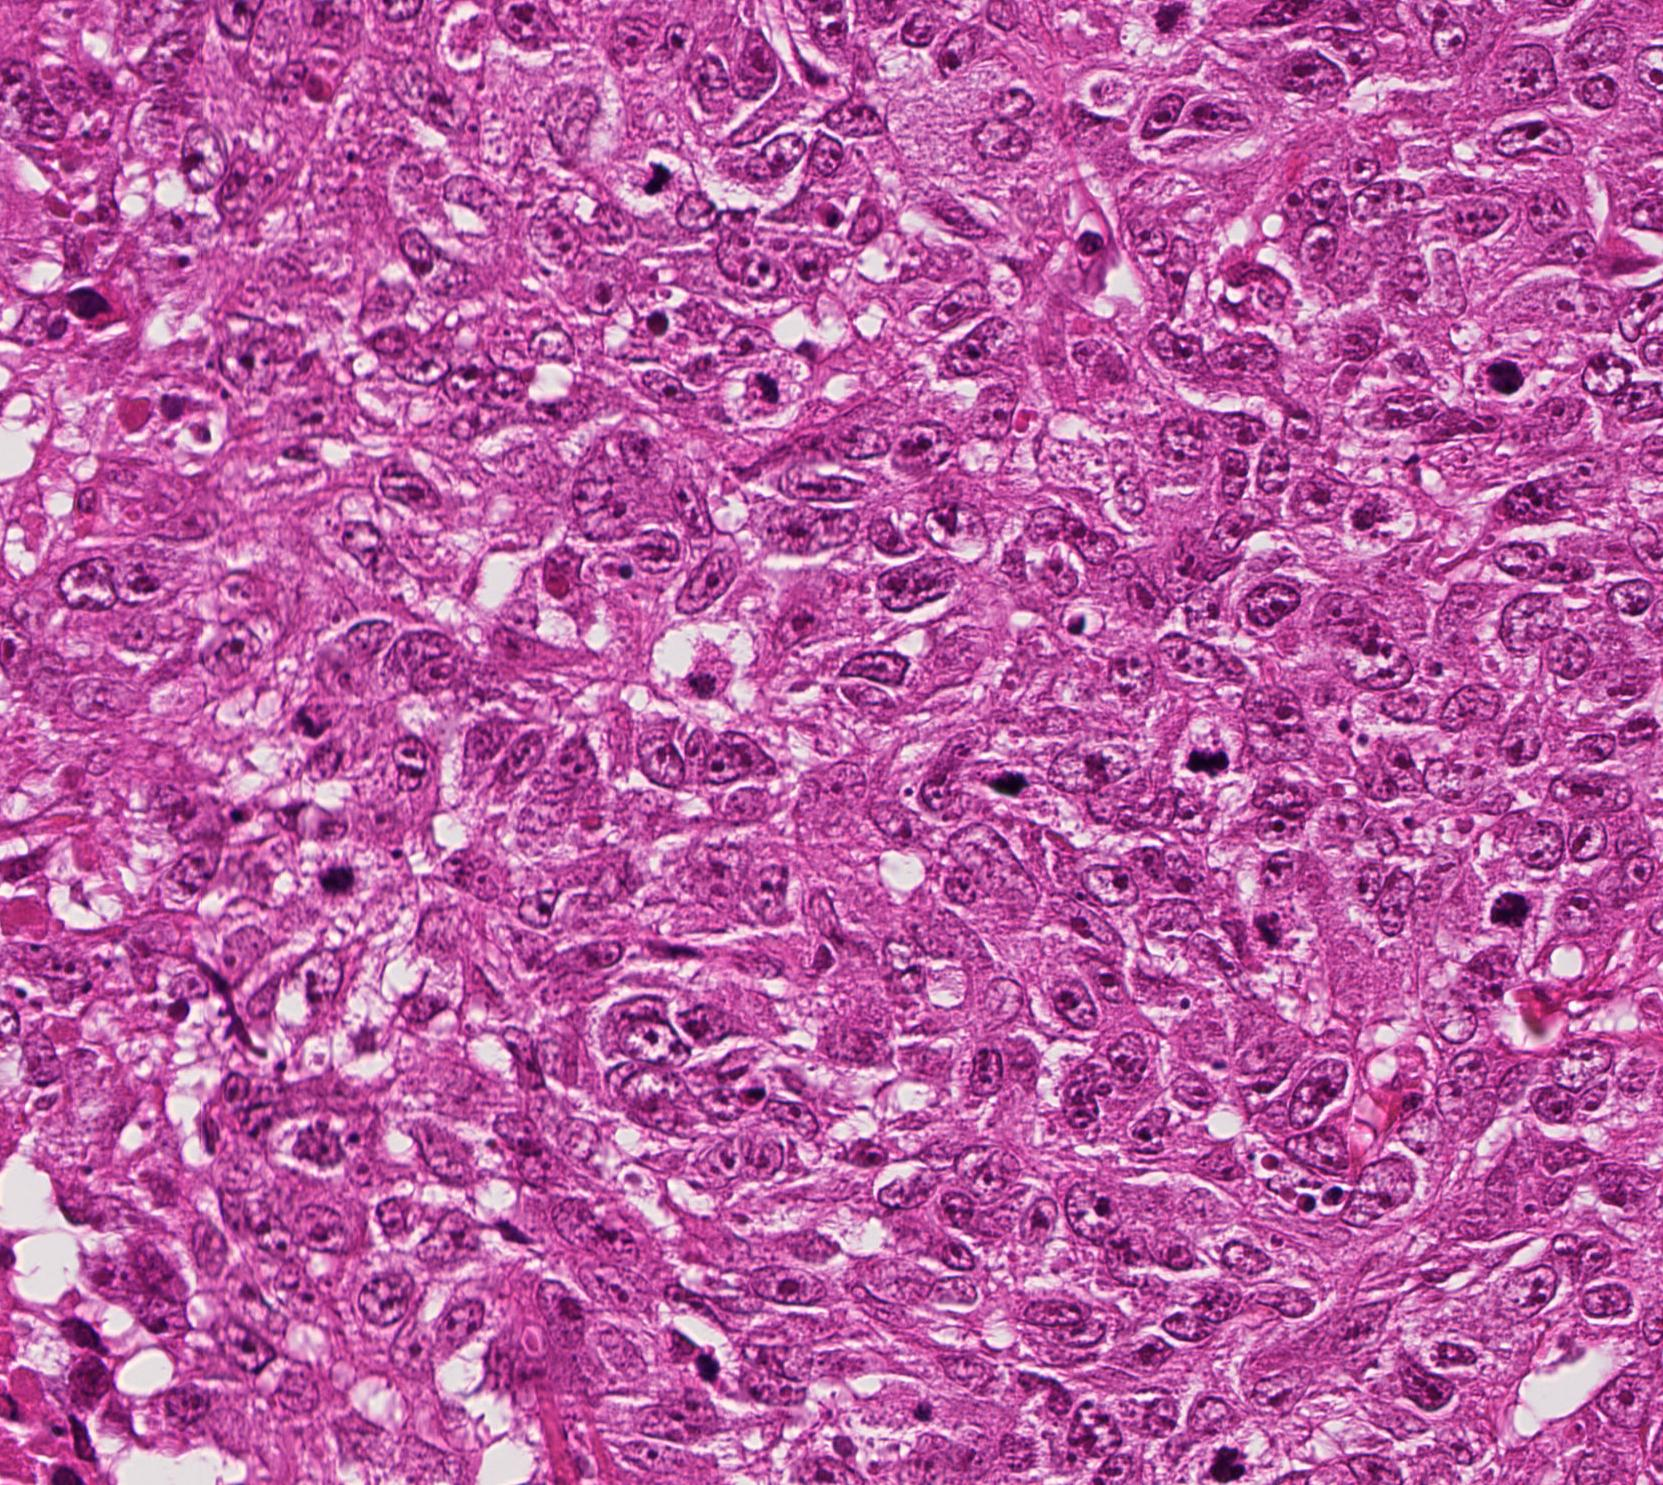mitosis: (1477, 353, 1537, 413), (307, 851, 367, 912), (275, 682, 335, 742), (1239, 904, 1297, 965), (1173, 727, 1231, 787), (982, 750, 1042, 808), (637, 155, 695, 215), (1477, 889, 1535, 947), (1124, 0, 1184, 57), (1196, 1432, 1256, 1485)
